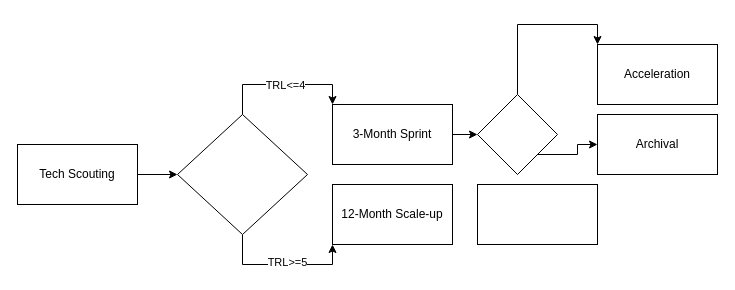
The diagram is 735 pixels wide and 290 high, and some of its shapes have lost their labels. Each missing label, with the box of its shape:
Industrialzation: (476, 184, 598, 244)
TRL Assessment: (176, 114, 308, 234)
Whether: (476, 94, 558, 174)
